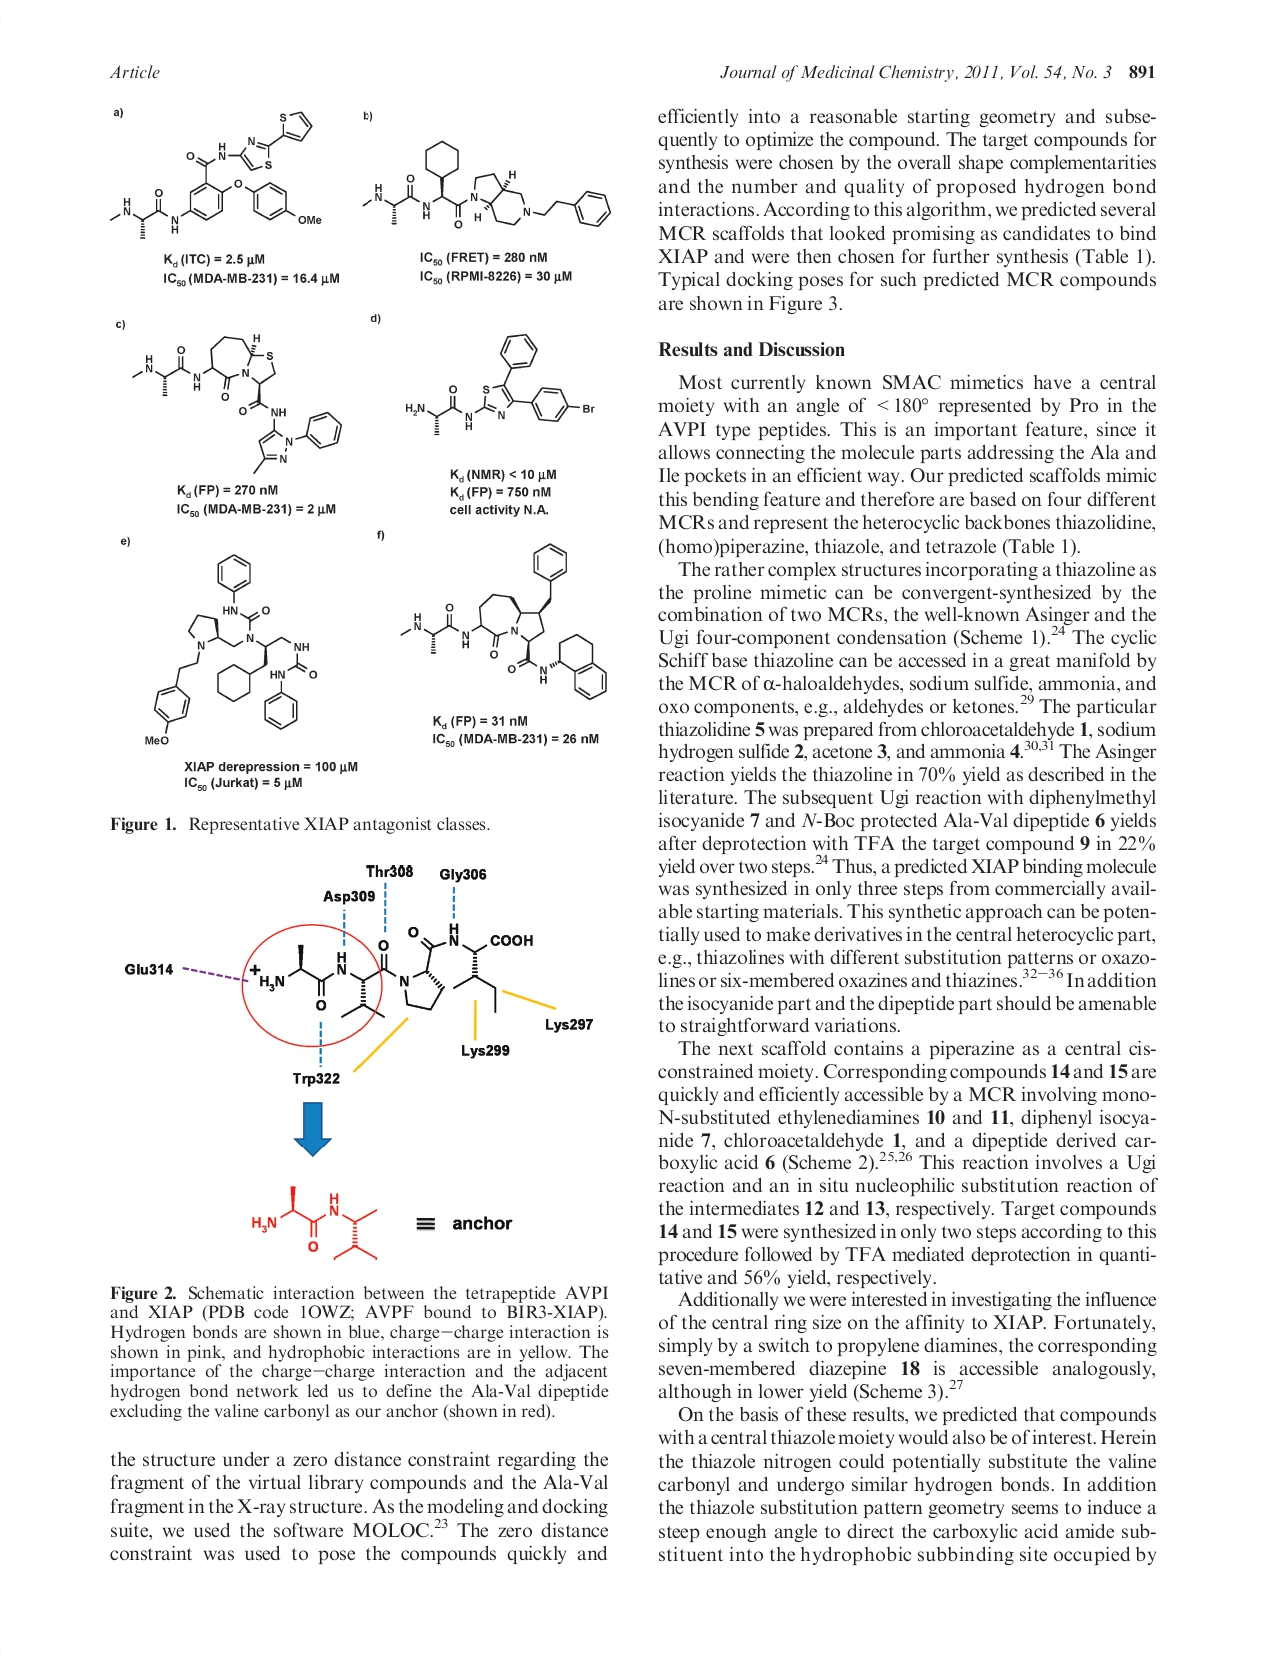exist_molecular: (142, 549, 324, 750), (398, 539, 613, 704), (129, 331, 344, 477), (108, 106, 331, 243), (246, 918, 539, 1017), (355, 137, 618, 237), (403, 326, 598, 442), (249, 1177, 390, 1267)
